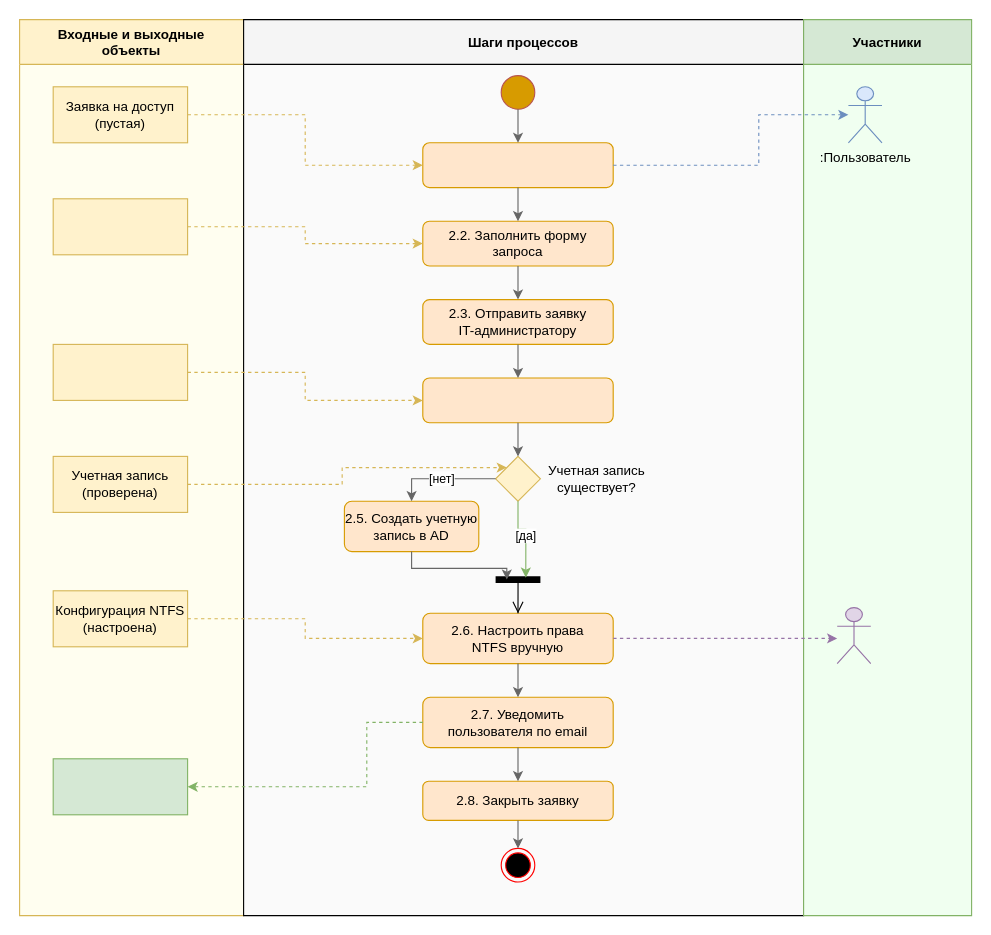
Image size: 991x935. Some labels were removed from this diagram. The centre of each missing label's shape, as x and y in pixels:
"2.1. Создать заявку на доступ" belongs at [517,165].
"2.4. Проверить пользователя в AD" belongs at [517,400].
":IT-Админ" belongs at [853,635].
"Данные пользователя" belongs at [120,371].
"Заявка на доступ (заполненная)" belongs at [120,226].
"Уведомление (отправлено)" belongs at [120,786].
